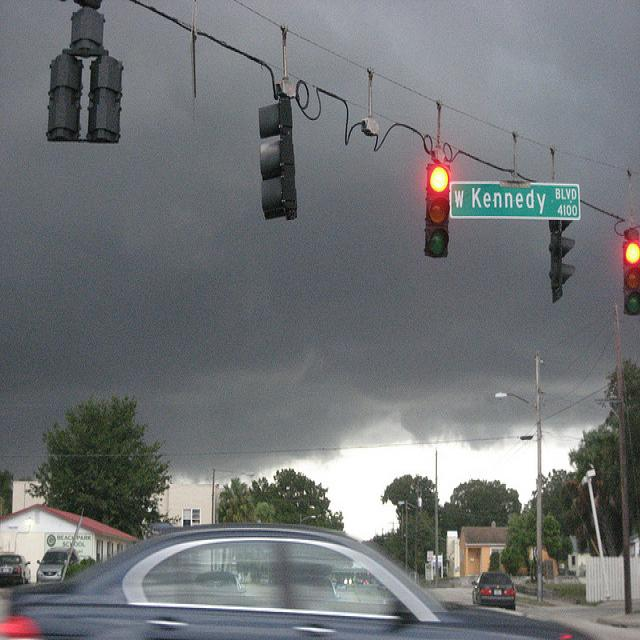Vehicle: (2, 523, 594, 640), (36, 546, 81, 584), (472, 572, 515, 610), (0, 552, 32, 587)
